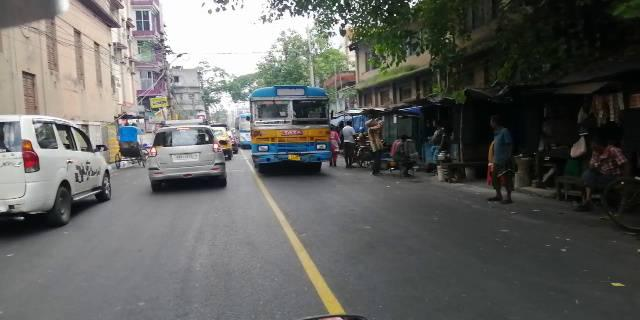Bus: (241, 84, 341, 176)
Car: (3, 110, 114, 228), (144, 122, 227, 190)
